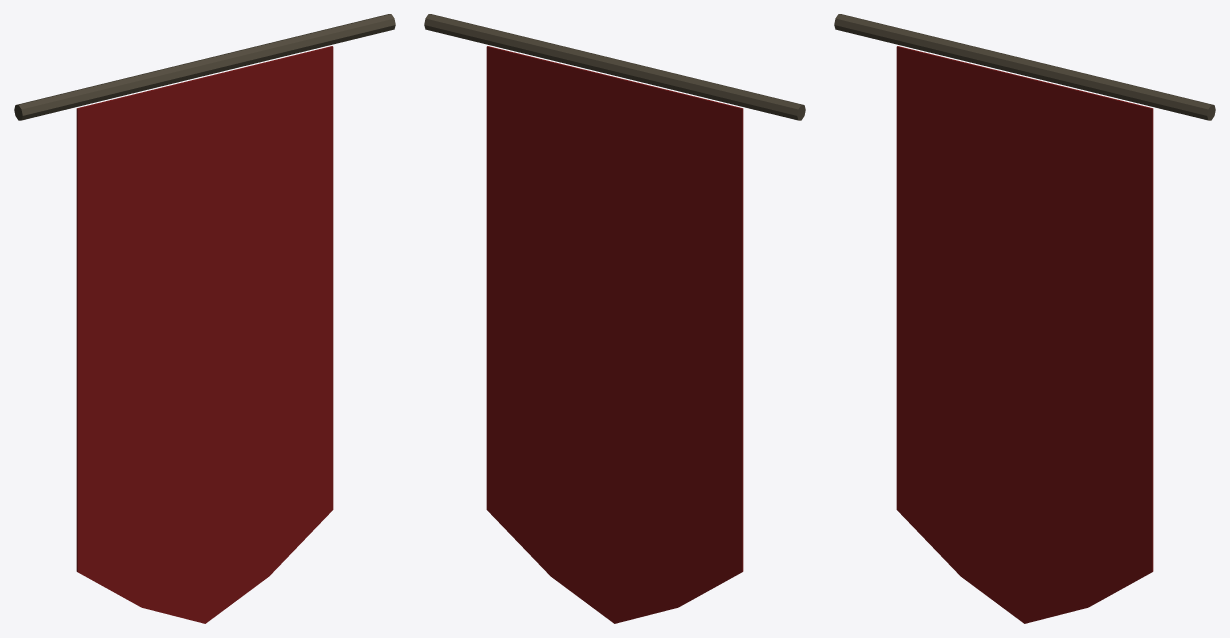
File: Banner.fbx
3 renders of one model, left to right at view 1: azimuth 30°, elevation 25°; view 2: azimuth 150°, elevation 25°; view 3: azimuth 330°, elevation 25°, orthographic.
Visible parts, largest first — view 1: Cylinder.001; view 2: Cylinder.001; view 3: Cylinder.001.
Boxes of the visible parts, box(x1,y1,x2,y2) form: Cylinder.001: box(14, 14, 395, 623); Cylinder.001: box(424, 14, 805, 623); Cylinder.001: box(834, 14, 1215, 623).
Size of the model in its own units: 250 by 361 by 10.
